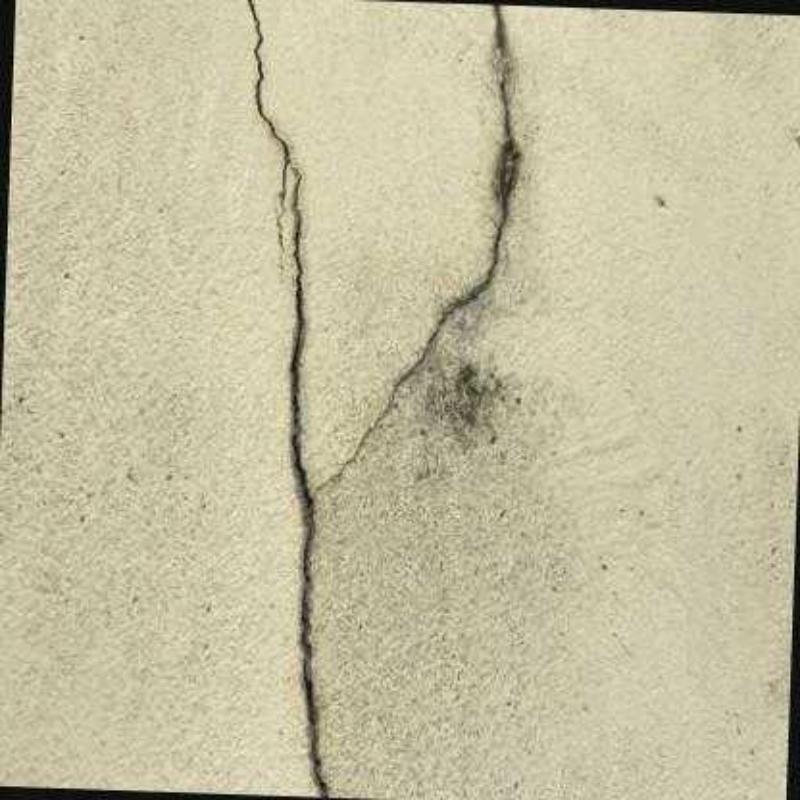crack: (247, 1, 522, 798)
